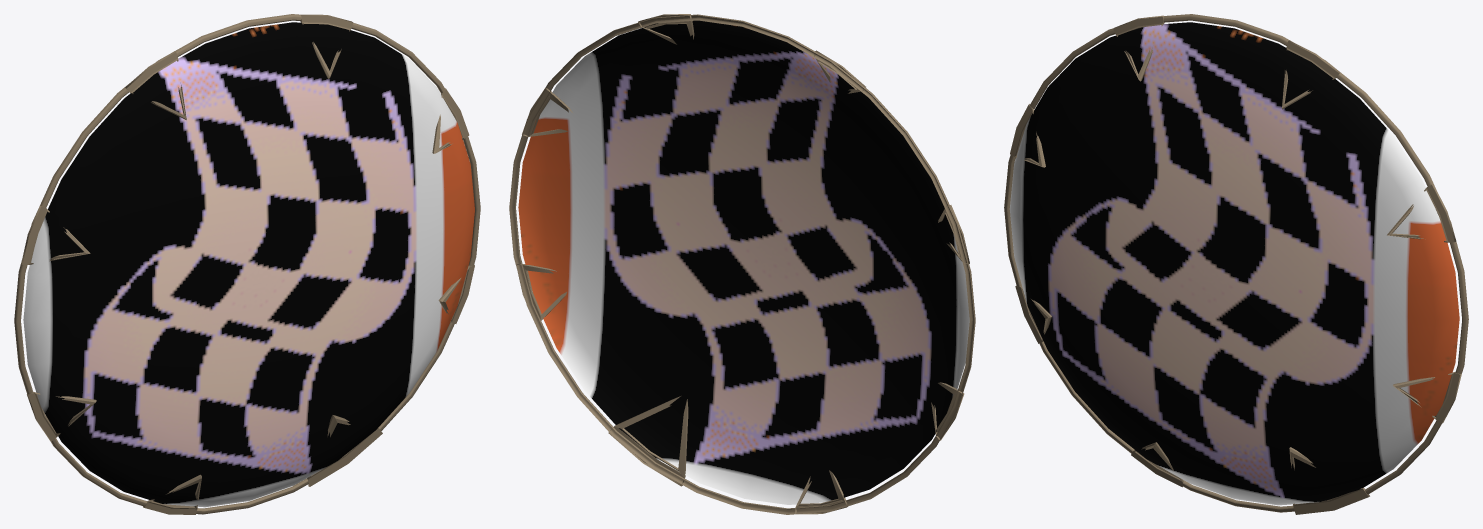
The model's file is ckp-0.obj.
The picture shows the model from 3 angles, left to right: view 1: azimuth 30°, elevation 25°; view 2: azimuth 150°, elevation 25°; view 3: azimuth 330°, elevation 25°; orthographic projection.
Parts seen in each view (by area): view 1: ckp0; view 2: ckp0; view 3: ckp0.
Part boxes in pixels (left/top/right/bottom): ckp0: left=14, top=14, right=480, bottom=514; ckp0: left=509, top=14, right=975, bottom=514; ckp0: left=1004, top=14, right=1468, bottom=514.
Bounding box in the file's own units: 12.36 × 12.36 × 0.9812.
Materials: 2 (2 with a texture image).
